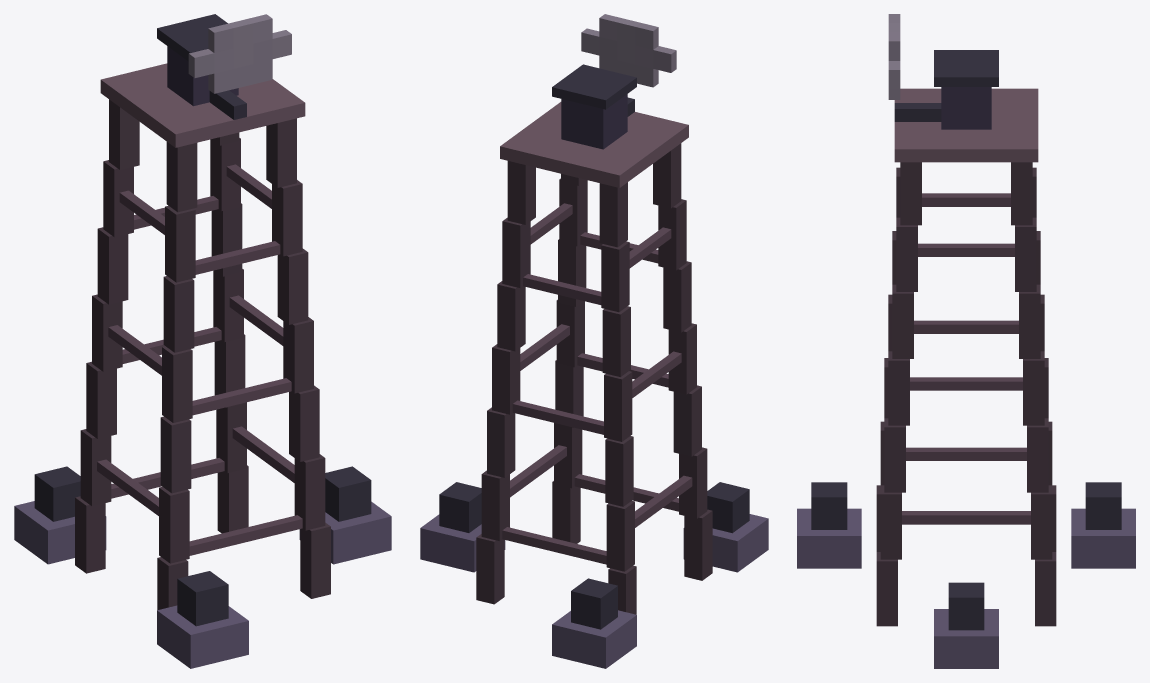
File: signal_tower_polluted.glb
3 views of the same model, side by side, from view 1: azimuth 30°, elevation 25°; view 2: azimuth 150°, elevation 25°; view 3: azimuth 270°, elevation 25° (orthographic). The views are drawn at different scales.
Parts seen in each view (by area): view 1: signal_tower_blocks; view 2: signal_tower_blocks; view 3: signal_tower_blocks.
Part boxes in pixels (x1=…): signal_tower_blocks: x1=14, y1=14, x2=391, y2=668; signal_tower_blocks: x1=420, y1=14, x2=768, y2=668; signal_tower_blocks: x1=797, y1=14, x2=1135, y2=668.
Size of the model in its own units: 4.2 by 8.6 by 4.71.
